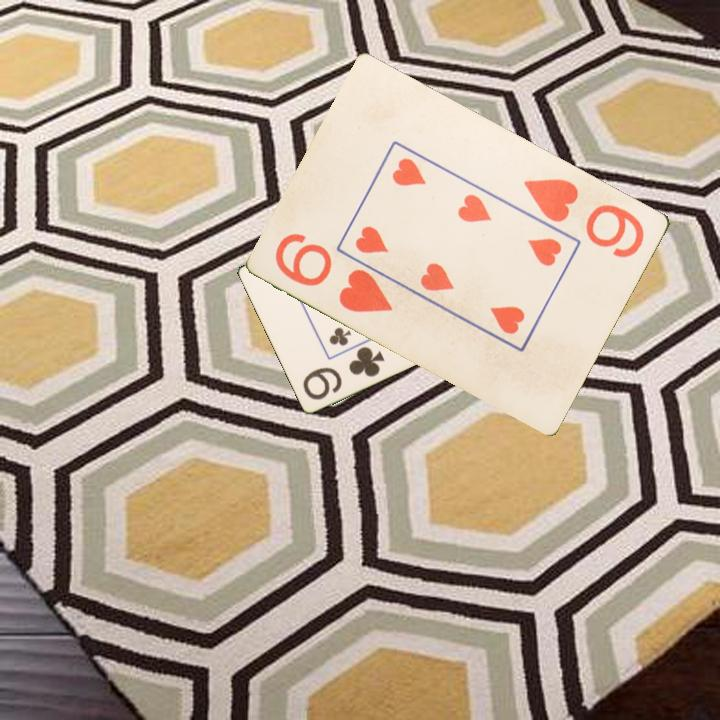6h: (520, 174, 648, 261), (272, 229, 397, 316)
9c: (299, 342, 388, 403)
